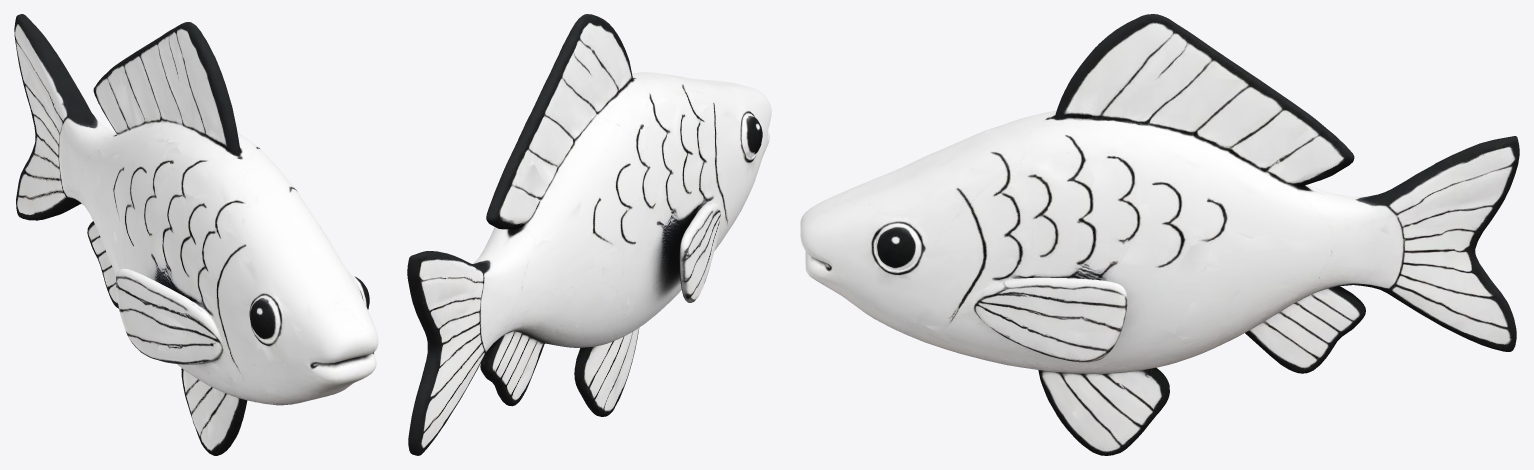
File: carp2.glb
3 renders of one model, left to right at view 1: azimuth 30°, elevation 25°; view 2: azimuth 150°, elevation 25°; view 3: azimuth 270°, elevation 25°, orthographic. The views are drawn at different scales.
Visible parts, largest first — view 1: model; view 2: model; view 3: model.
Part boxes in pixels (x1,y1,x2,y2): model: [14, 14, 378, 455]; model: [407, 14, 771, 455]; model: [800, 14, 1519, 455].
Bounding box in the file's own units: 0.5765 × 1.28 × 1.9.
Materials: 1 (1 with a texture image).
